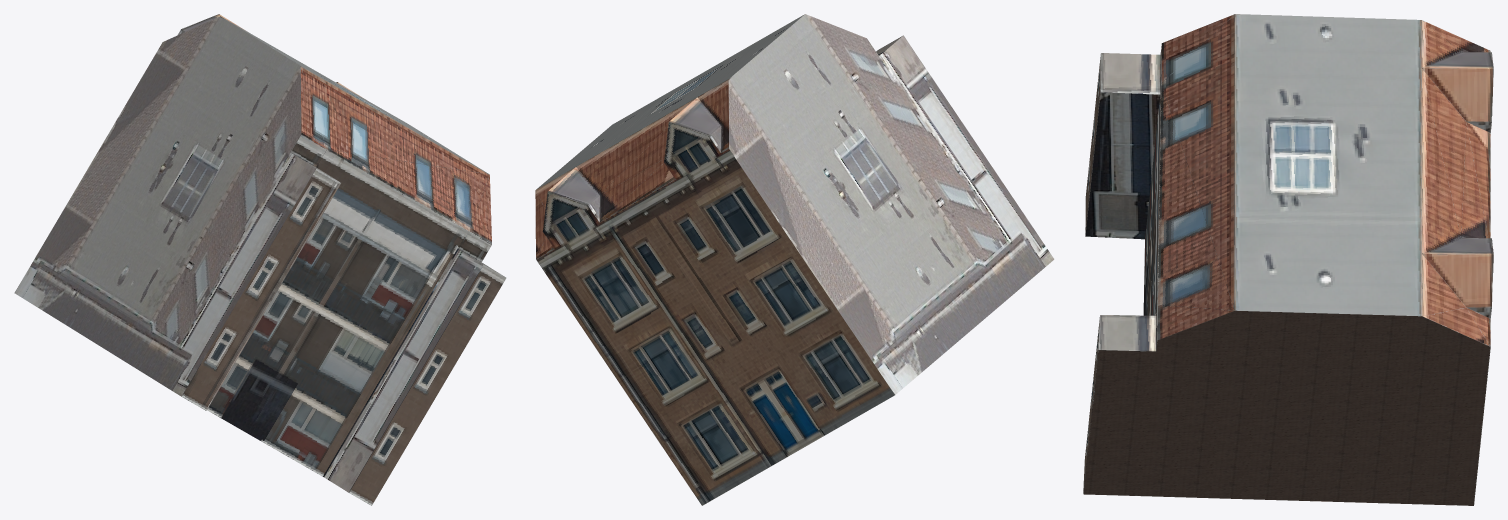
3 views of the same model, side by side, from view 1: azimuth 30°, elevation 25°; view 2: azimuth 150°, elevation 25°; view 3: azimuth 270°, elevation 25° (orthographic). The views are drawn at different scales.
Parts seen in each view (by area): view 1: BAG_0599100000670810 (×6); view 2: BAG_0599100000670810 (×5); view 3: BAG_0599100000670810 (×5).
Boxes of the visible parts, x1,y1,x2,y2 form: BAG_0599100000670810 (×6): (14, 14, 506, 505); BAG_0599100000670810 (×5): (535, 14, 1054, 505); BAG_0599100000670810 (×5): (1083, 14, 1493, 505).
Size of the model in its own units: 16.55 by 17.17 by 13.01.
6 materials, 6 textured.
